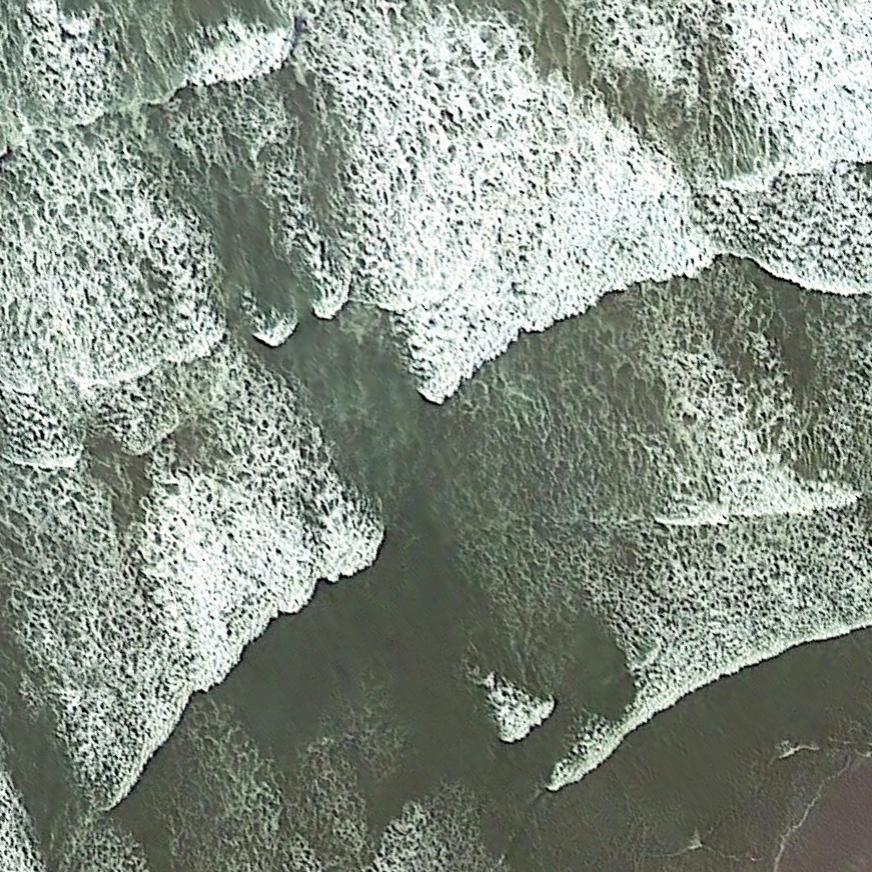rip_current: (155, 165, 615, 693)
